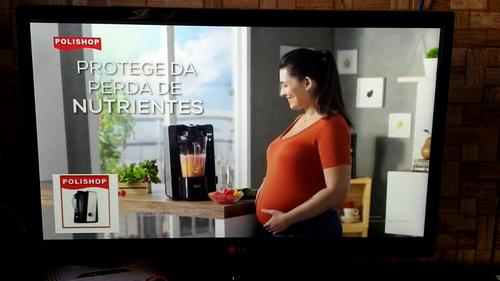Polishop #1: (52, 173, 119, 232)
